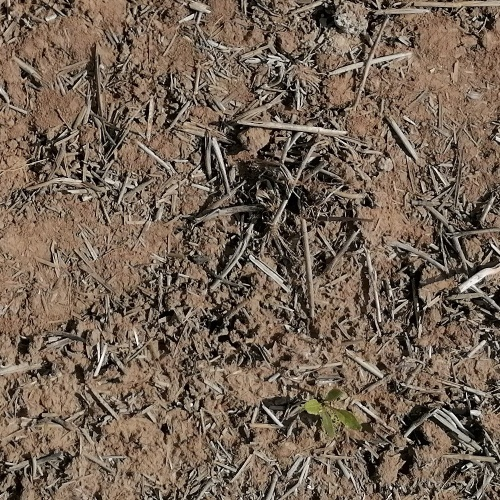beet: (304, 386, 364, 440)
